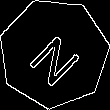N_NE: (22, 21, 86, 86)
